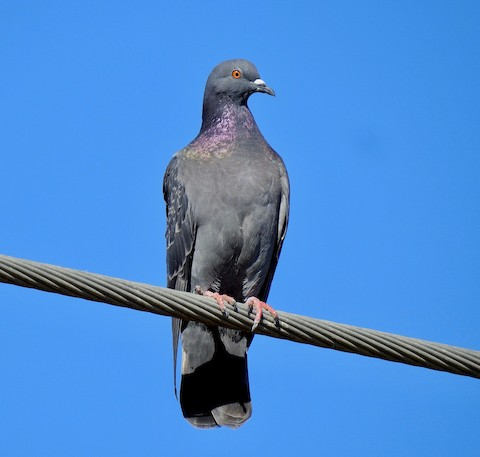pigeon: (162, 55, 298, 435)
